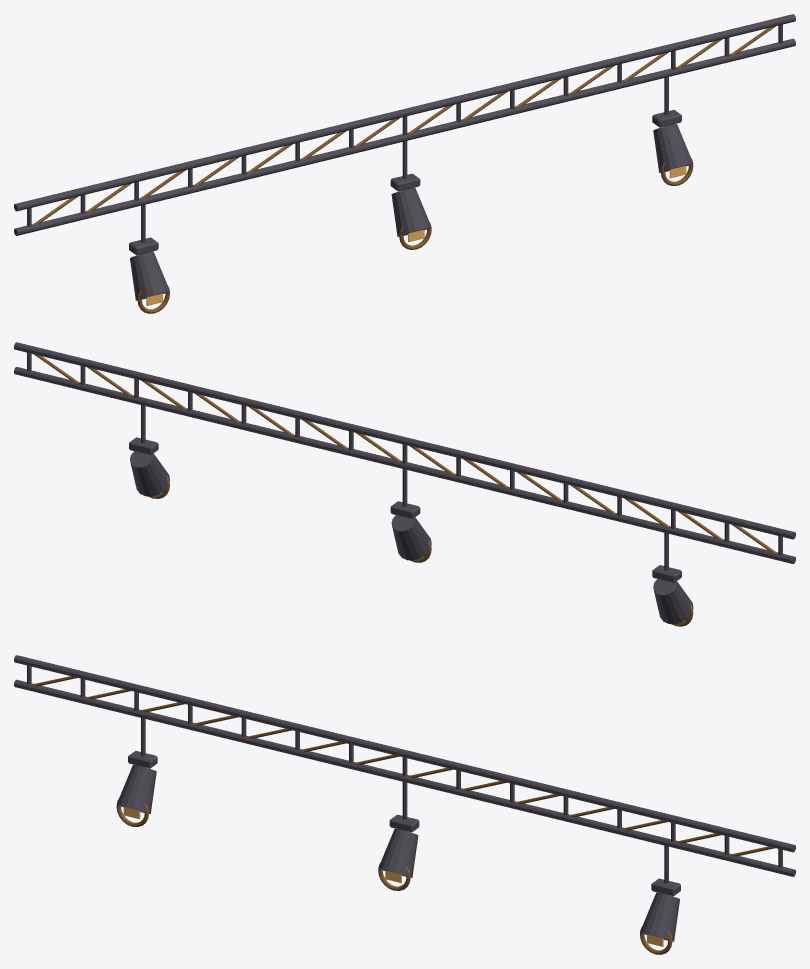
File: SM_Stage3_StudioTruss.fbx
3 renders of one model, top to bottom at view 1: azimuth 30°, elevation 25°; view 2: azimuth 150°, elevation 25°; view 3: azimuth 330°, elevation 25°, orthographic.
Parts seen in each view (by area): view 1: SM_Stage3_StudioTruss; view 2: SM_Stage3_StudioTruss; view 3: SM_Stage3_StudioTruss.
Part boxes in pixels (left/top/right/bottom): SM_Stage3_StudioTruss: left=14, top=14, right=795, bottom=313; SM_Stage3_StudioTruss: left=14, top=342, right=795, bottom=626; SM_Stage3_StudioTruss: left=14, top=655, right=795, bottom=954.
Bounding box in the file's own units: 1160 × 62.19 × 189.
